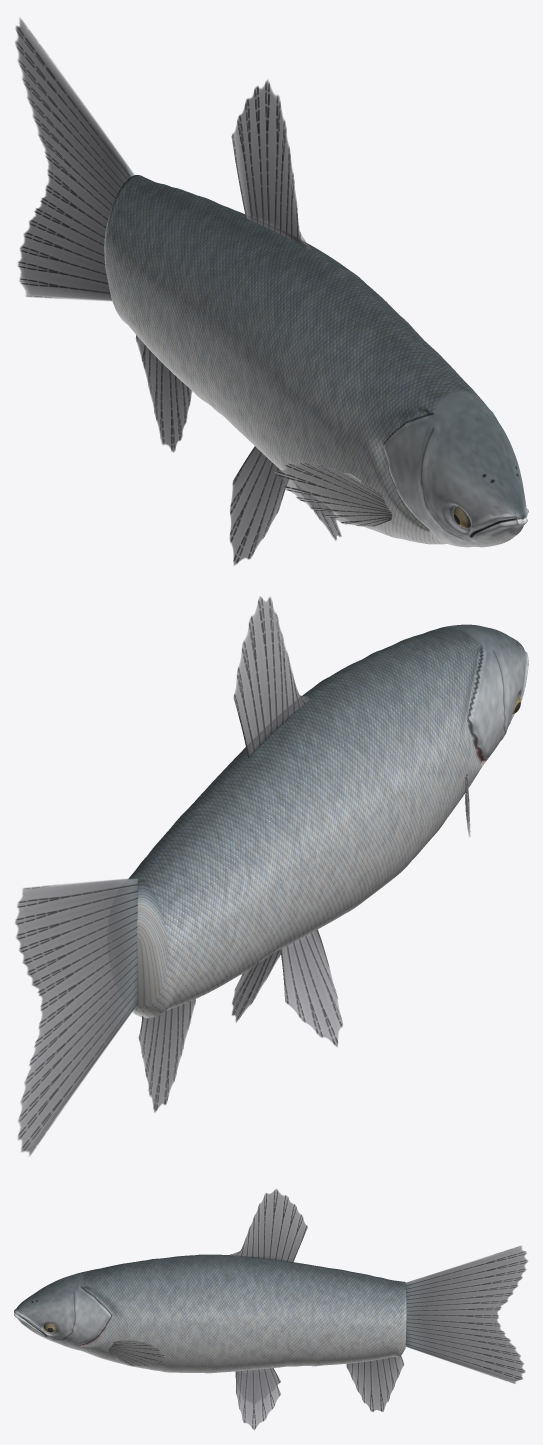
File: tolpyga_biala.glb
3 views of the same model, one above another, from view 1: azimuth 30°, elevation 25°; view 2: azimuth 150°, elevation 25°; view 3: azimuth 270°, elevation 25° (orthographic). The views are drawn at different scales.
Parts seen in each view (by area): view 1: Body, FinCaudal, FinDorsal1, FinPelvic, FinPectoral, FinAnal; view 2: Body, FinCaudal, FinDorsal1, FinPelvic, FinAnal; view 3: Body, FinCaudal, FinDorsal1, FinPelvic, FinAnal, FinPectoral.
Part boxes in pixels (bbox=[...]): Body: bbox=[104, 175, 528, 547]; FinCaudal: bbox=[15, 18, 134, 301]; FinDorsal1: bbox=[231, 79, 310, 250]; FinPelvic: bbox=[229, 446, 341, 565]; FinPectoral: bbox=[275, 462, 392, 526]; FinAnal: bbox=[135, 335, 192, 452]; Body: bbox=[128, 624, 528, 1018]; FinCaudal: bbox=[15, 878, 138, 1156]; FinDorsal1: bbox=[233, 596, 310, 757]; FinPelvic: bbox=[231, 929, 342, 1047]; FinAnal: bbox=[138, 999, 195, 1112]; Body: bbox=[14, 1254, 406, 1373]; FinCaudal: bbox=[405, 1245, 527, 1383]; FinDorsal1: bbox=[229, 1188, 307, 1262]; FinPelvic: bbox=[235, 1368, 280, 1429]; FinAnal: bbox=[346, 1356, 404, 1411]; FinPectoral: bbox=[108, 1339, 165, 1366].
Bounding box in the file's own units: 0.2216 × 0.4963 × 1.
8 materials, 7 textured.
